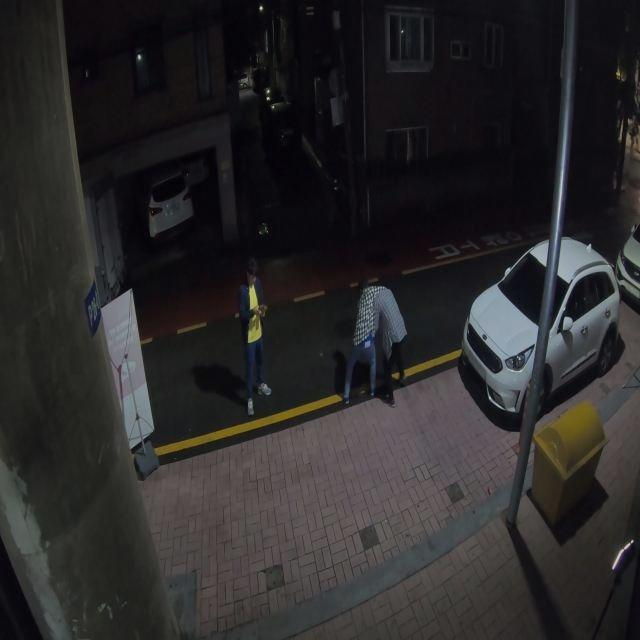fight: (332, 277, 411, 407)
non-fight: (237, 260, 272, 413)
